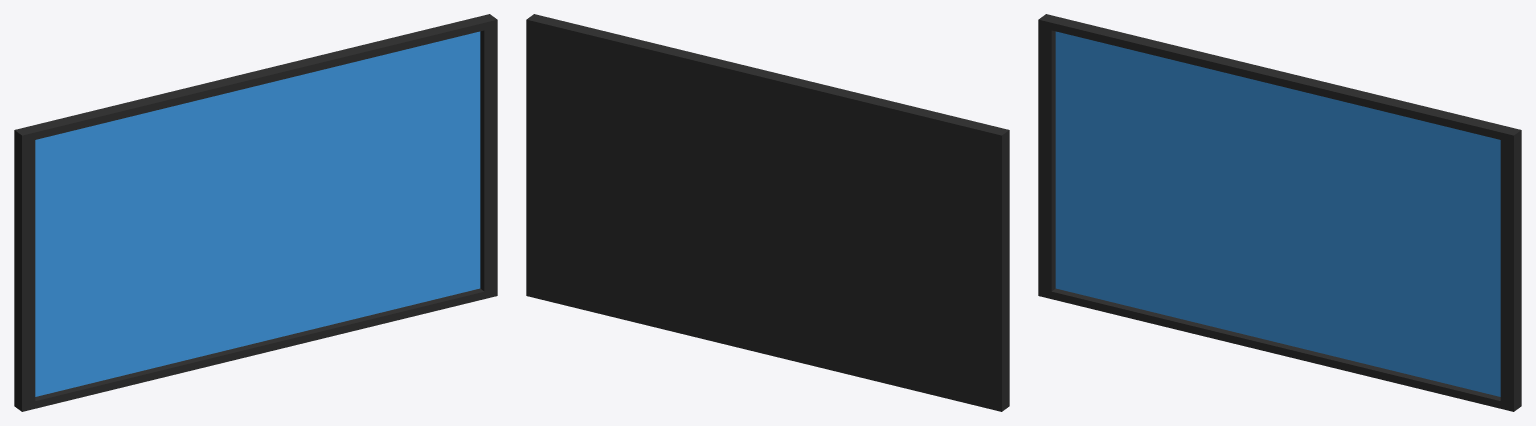
Rendered from monitor_1.fbx.
The picture shows the model from 3 angles, left to right: view 1: azimuth 30°, elevation 25°; view 2: azimuth 150°, elevation 25°; view 3: azimuth 330°, elevation 25°; orthographic projection.
Parts seen in each view (by area): view 1: monitor1; view 2: monitor1; view 3: monitor1.
Part boxes in pixels (<box>): monitor1: <box>14,14,497,411</box>; monitor1: <box>526,14,1009,411</box>; monitor1: <box>1038,14,1521,411</box>.
Size of the model in its own units: 1.8 by 1 by 0.0504.
1 material, 1 textured.
